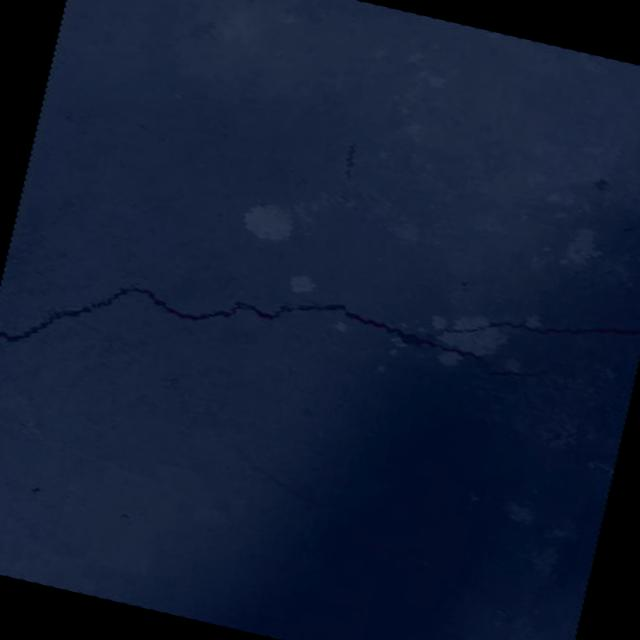crack: (0, 183, 640, 482)
